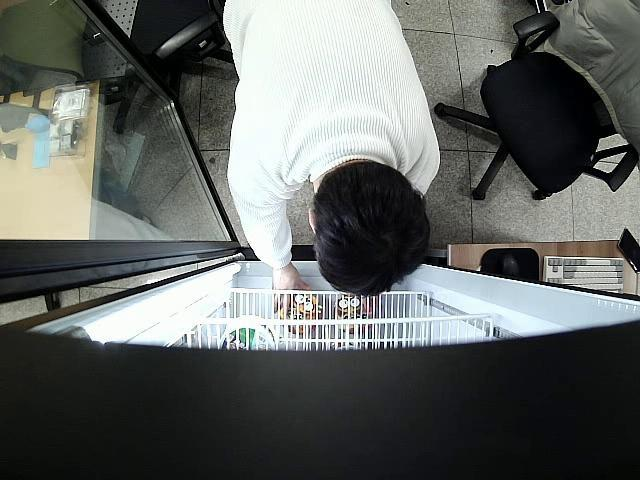05_nuguri_L: (278, 292, 325, 336)
